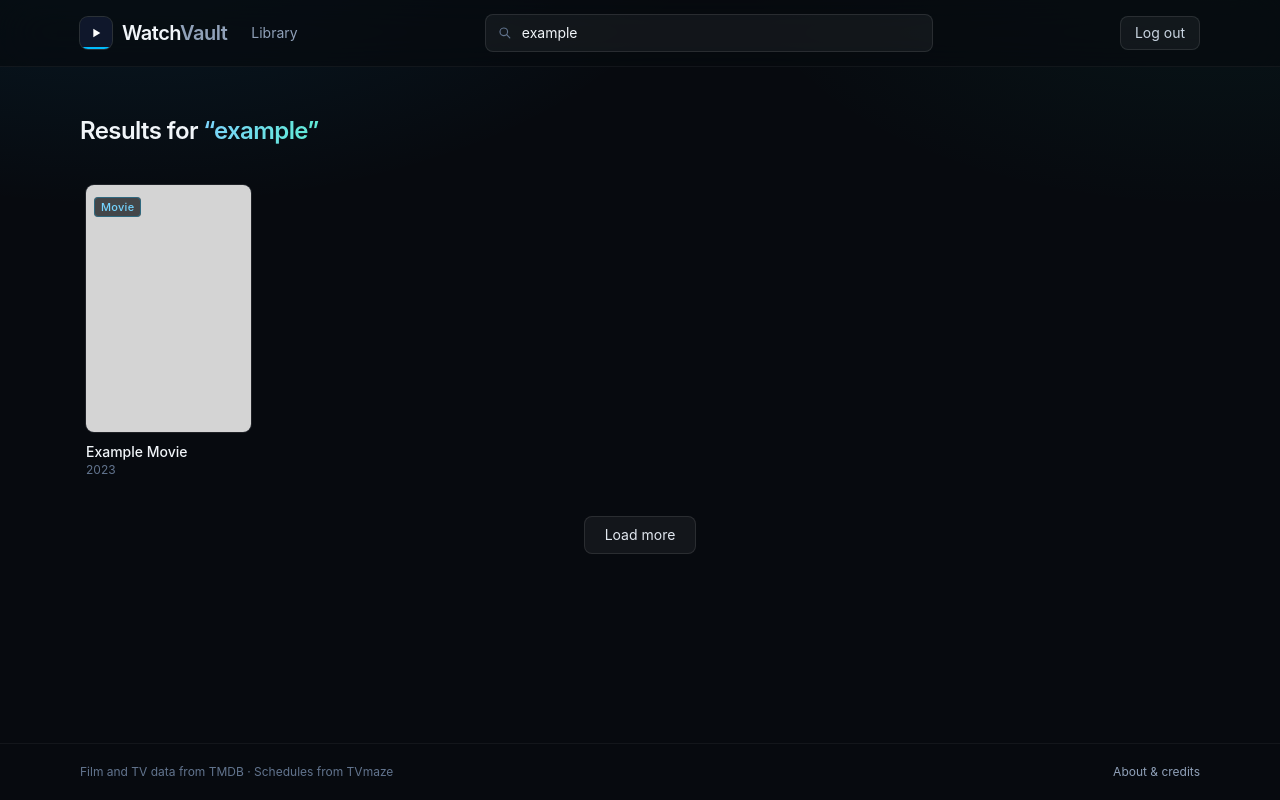
Test: search › loads the next page on request
The width and height of the screenshot is (1280, 800).
Click the button "Load more". click: (640, 535)
box: top-left (584, 516), bottom-right (696, 554)
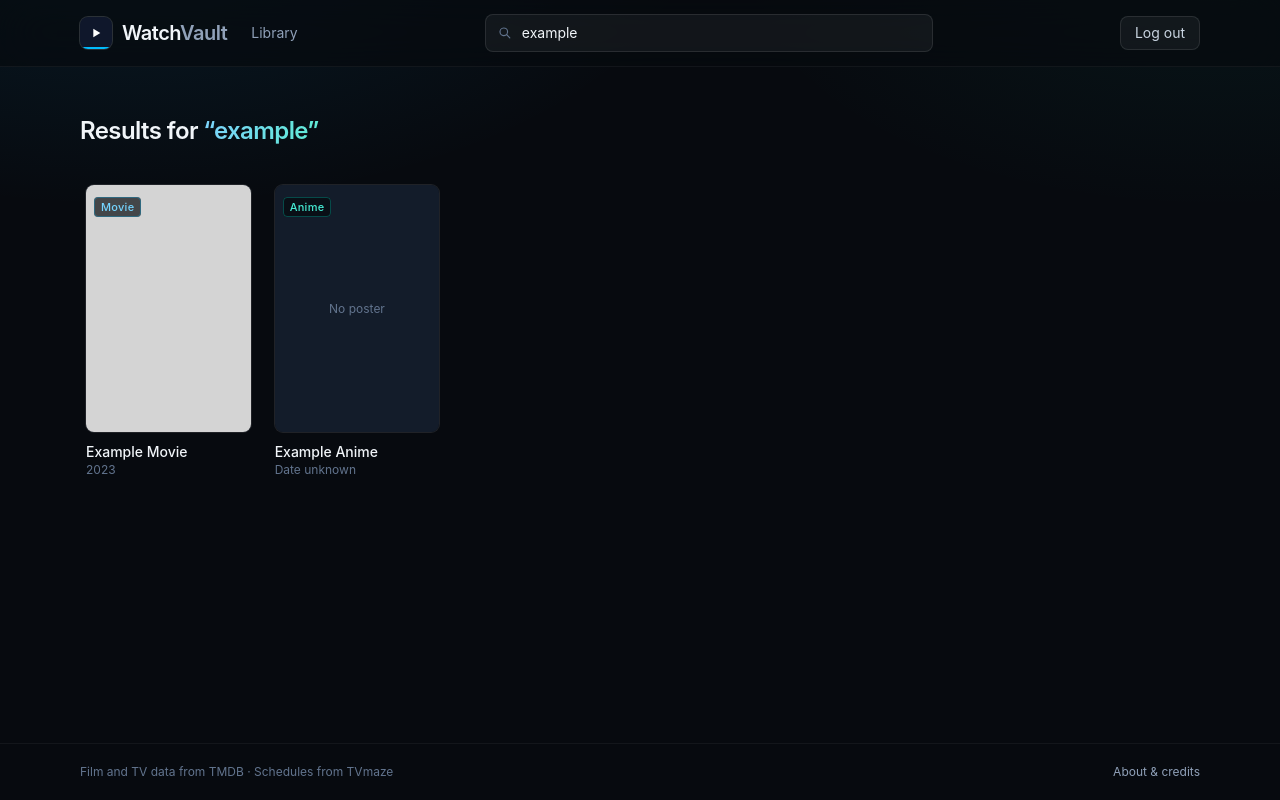
Expected: the text "Example Movie" is shown, top-left (86, 443), bottom-right (188, 460)
Now the text "Example Anime" is shown, box top-left (275, 443), bottom-right (378, 460)
Now the button "Load more" is gone
